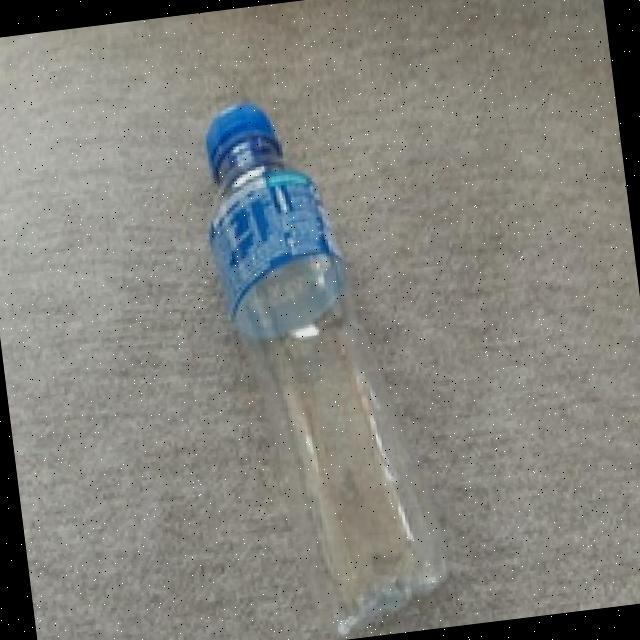bottle: (191, 79, 459, 640)
cap: (195, 97, 286, 165)
label: (185, 181, 362, 316)
